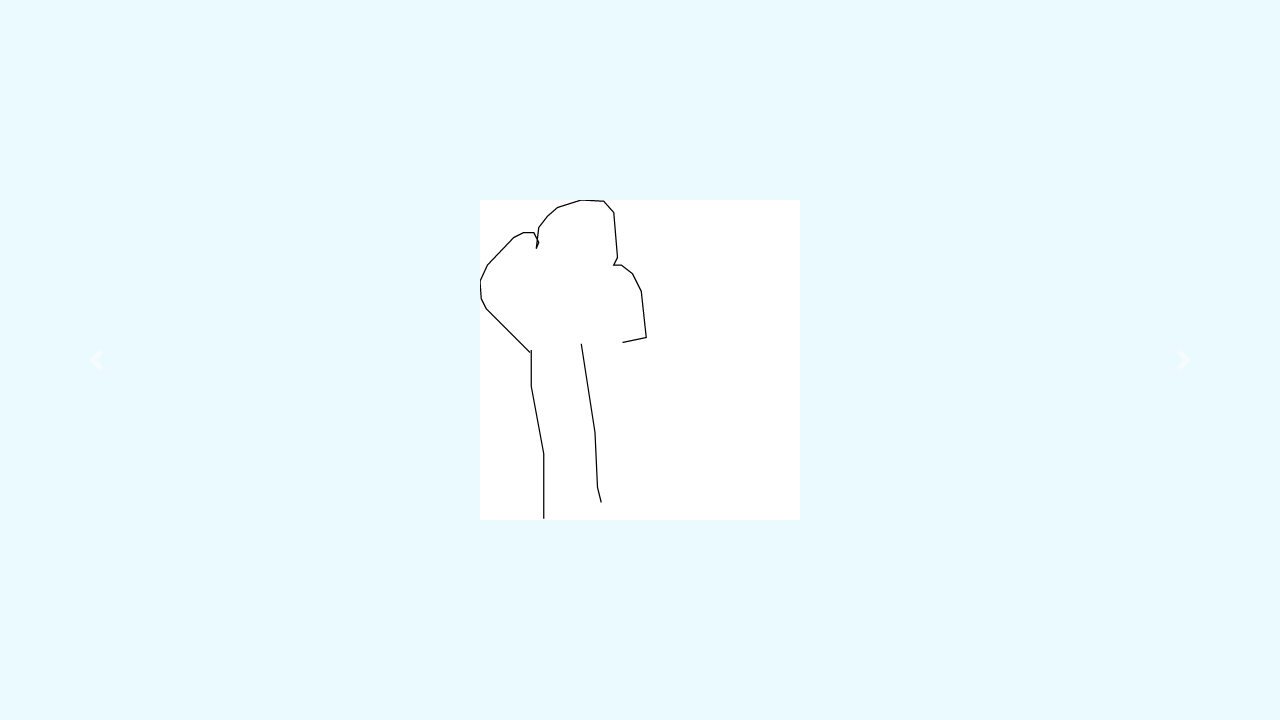tree: (472, 192, 655, 533)
